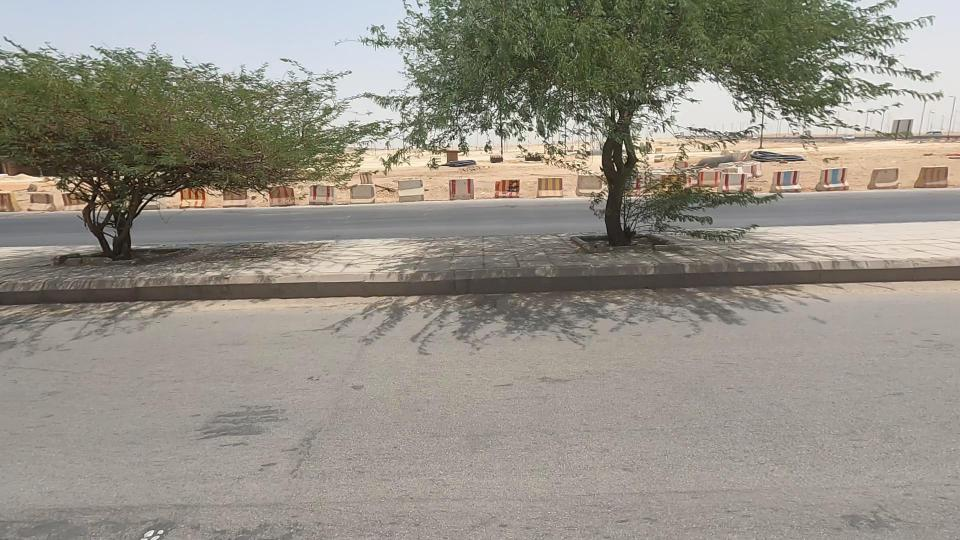CONSTRUCTION_ROAD: (173, 165, 447, 228), (651, 140, 858, 221), (782, 131, 960, 222), (498, 154, 661, 218), (397, 175, 541, 214)
